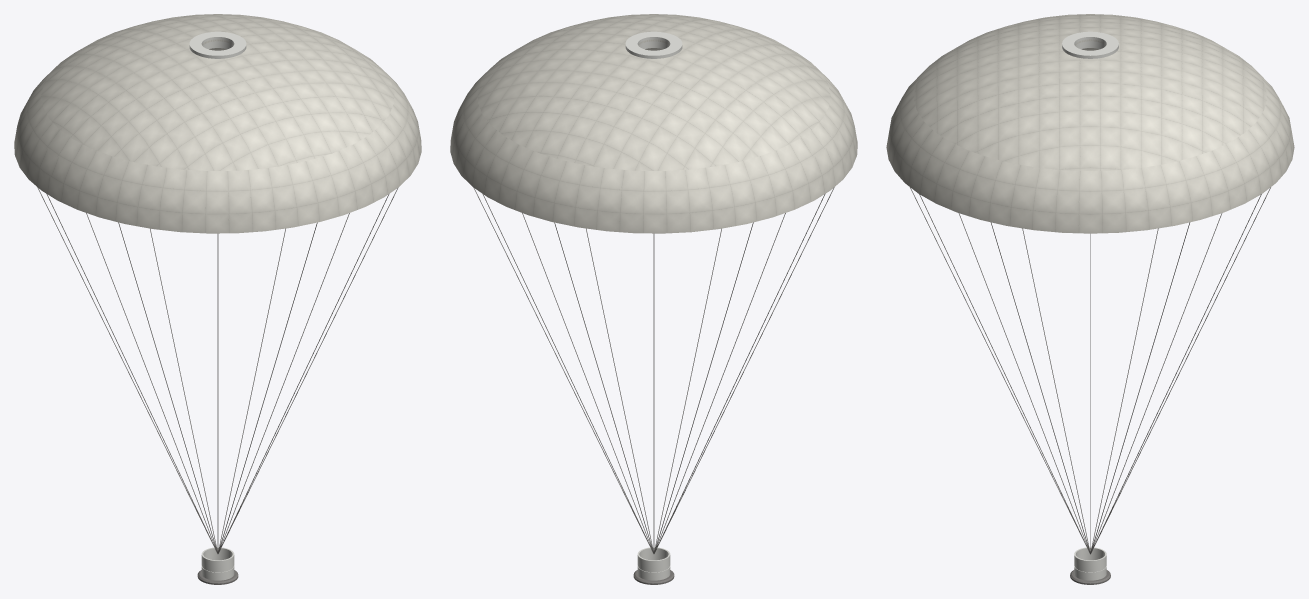
The model's file is ax_util_25_parachute_pack_s_deployed.glb.
3 views of the same model, side by side, from view 1: azimuth 30°, elevation 25°; view 2: azimuth 150°, elevation 25°; view 3: azimuth 270°, elevation 25° (orthographic).
Visible parts, largest first — view 1: canopy, risers, vent_band, canister; view 2: canopy, risers, vent_band, canister; view 3: canopy, risers, vent_band, canister.
Part boxes in pixels (box(x1,y1,x2,y2)): canopy: box(14, 14, 421, 233); risers: box(37, 187, 398, 553); vent_band: box(189, 31, 246, 58); canister: box(201, 547, 234, 580); canopy: box(450, 14, 857, 233); risers: box(473, 187, 834, 553); vent_band: box(625, 31, 682, 58); canister: box(637, 547, 670, 580); canopy: box(886, 14, 1294, 233); risers: box(910, 187, 1270, 554); vent_band: box(1062, 31, 1118, 58); canister: box(1074, 547, 1106, 580).
Bounding box in the file's own units: 5 × 7.2 × 5.
Materials: 3 (2 with a texture image).
